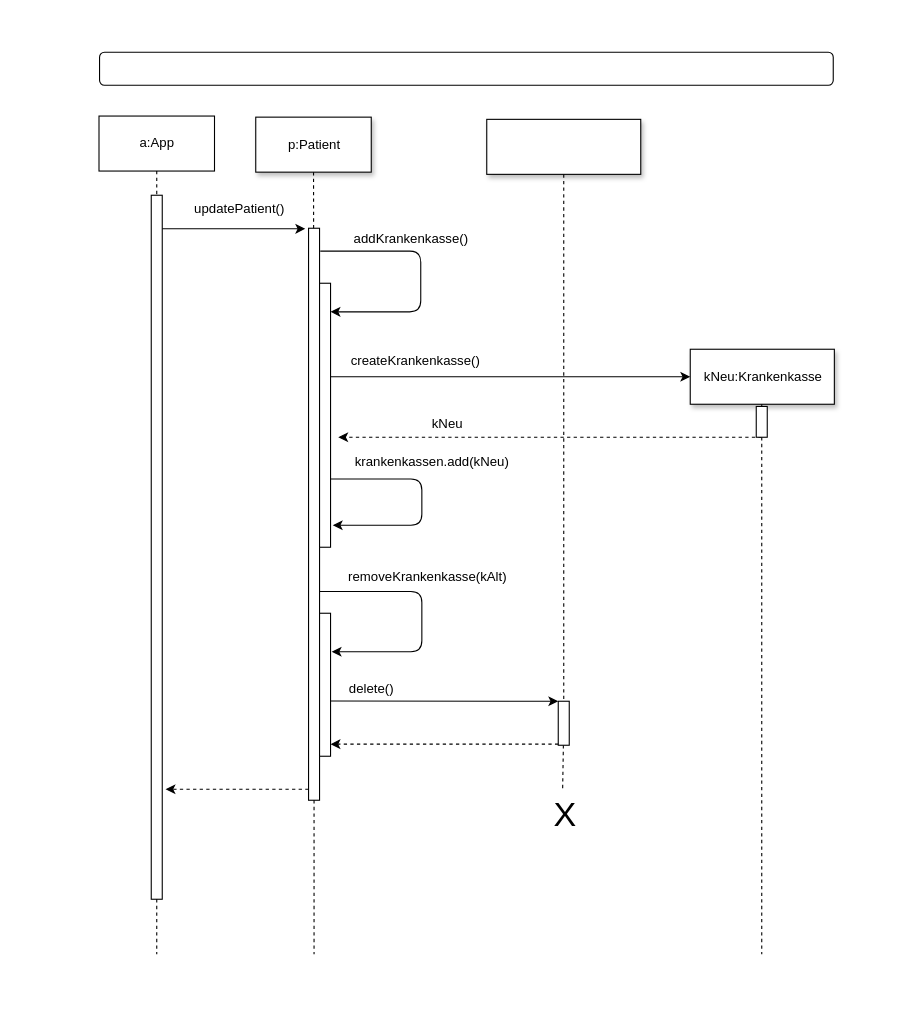
This 917x1020 diagram has some shape labels left out. Each missing label, with the centre of its shape:
kAlt:Krankenkasse: point 564,148
Versicherungswechsel: point 465,68
